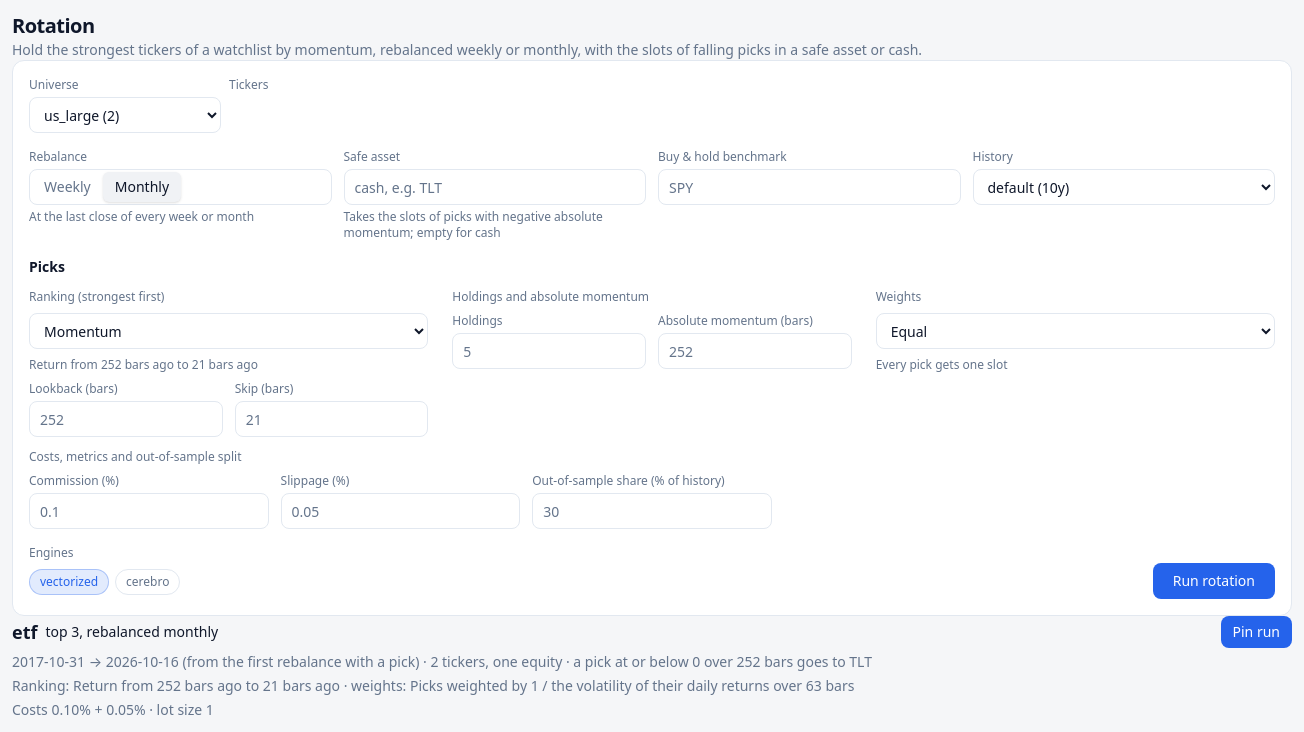
RotationPage › does not run with an invalid value
The image size is (1304, 732).
Expected: the button "Run rotation" is shown, x1=1153 y1=563 x2=1275 y2=599
Type "0" into the number field labelled "Holdings" at (549, 351), box x1=452 y1=333 x2=646 y2=369
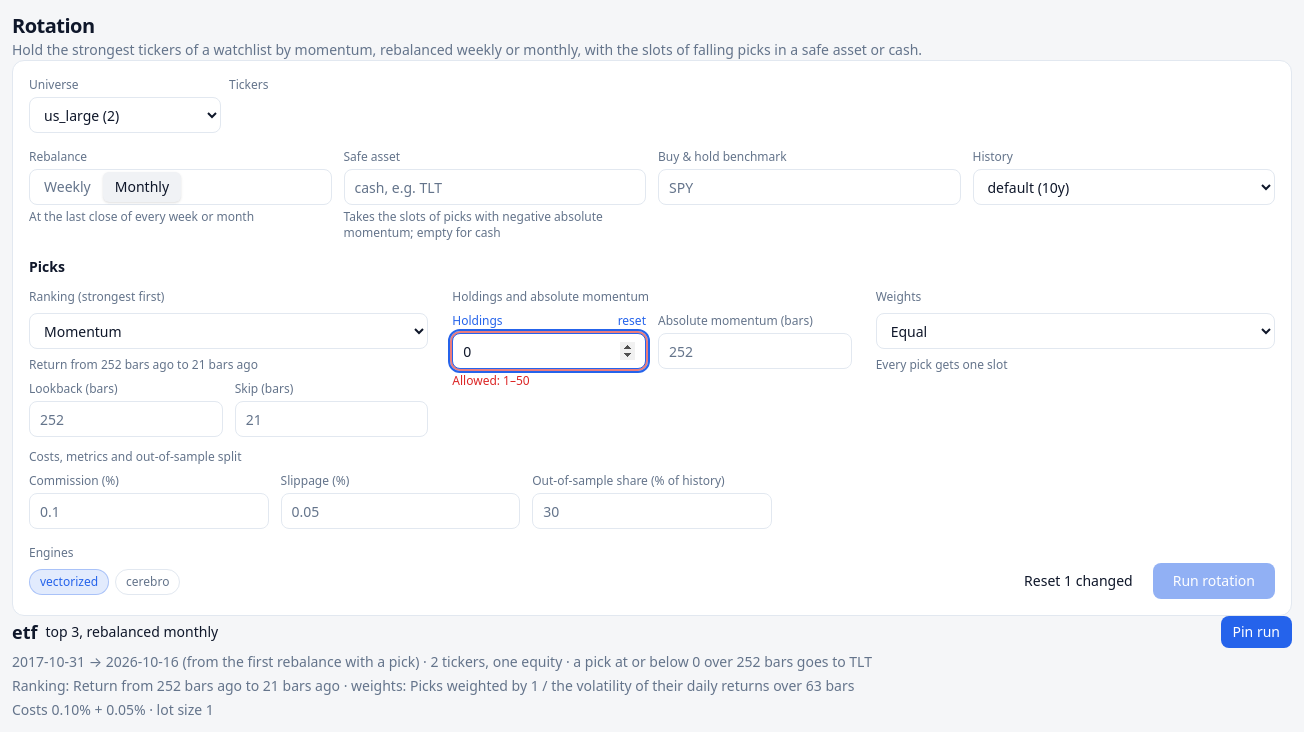
Result: the button "Run rotation" is disabled at x1=1153 y1=563 x2=1275 y2=599
